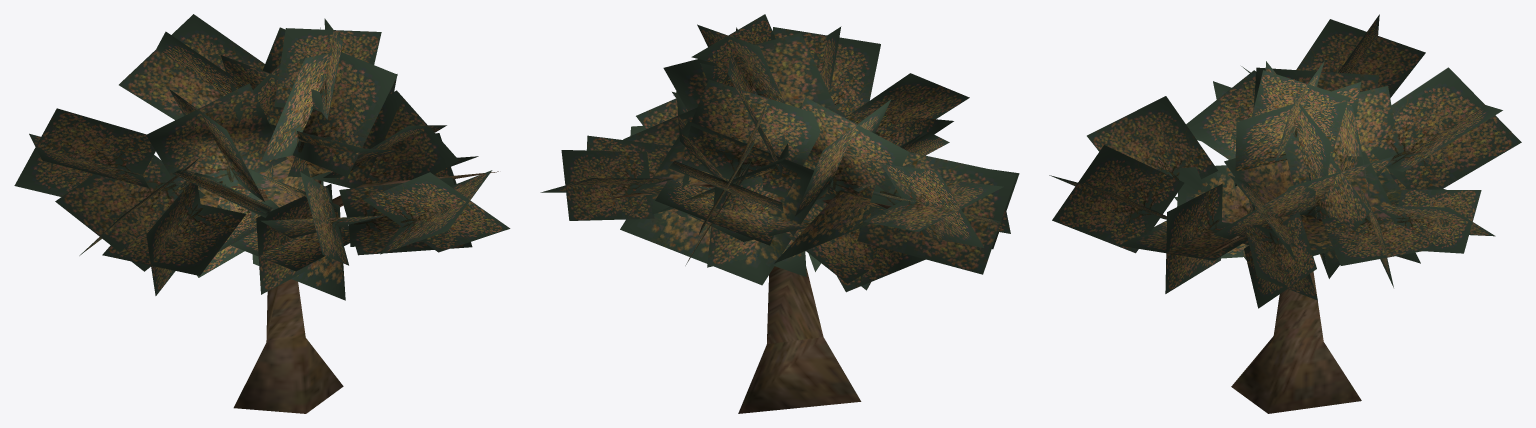
Rendered from decd_oaktreeleaves_a1_l2.fbx.
The picture shows the model from 3 angles, left to right: view 1: azimuth 30°, elevation 25°; view 2: azimuth 150°, elevation 25°; view 3: azimuth 270°, elevation 25°; orthographic projection. The views are drawn at different scales.
Visible parts, largest first — view 1: mesh_node; view 2: mesh_node; view 3: mesh_node.
Part boxes in pixels (<box>): mesh_node: <box>14,14,510,413</box>; mesh_node: <box>540,14,1019,413</box>; mesh_node: <box>1049,14,1521,413</box>.
Bounding box in the file's own units: 32.94 × 26.98 × 33.84.
Materials: 2 (2 with a texture image).
